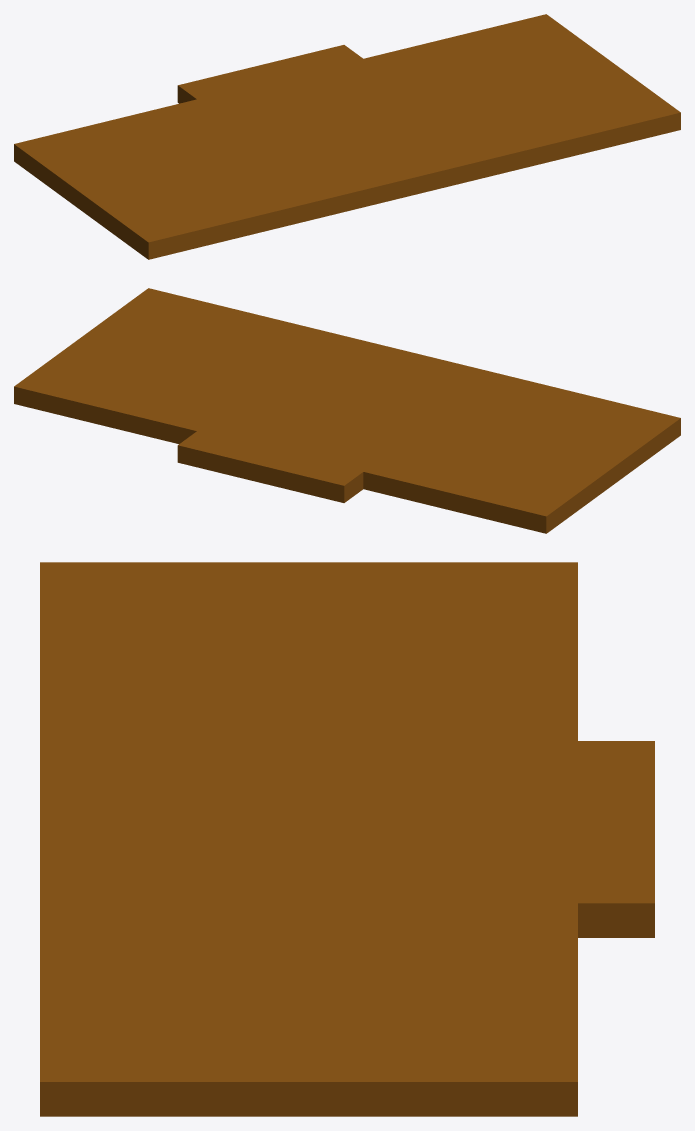
The model's file is FloorEdgeDoor.glb.
The picture shows the model from 3 angles, top to bottom: view 1: azimuth 30°, elevation 25°; view 2: azimuth 150°, elevation 25°; view 3: azimuth 270°, elevation 25°; orthographic projection. The views are drawn at different scales.
Visible parts, largest first — view 1: FloorEdgeDoor; view 2: FloorEdgeDoor; view 3: FloorEdgeDoor.
Boxes of the visible parts, <box> form: FloorEdgeDoor: <box>14,14,680,259</box>; FloorEdgeDoor: <box>14,288,680,533</box>; FloorEdgeDoor: <box>40,562,654,1116</box>.
Size of the model in its own units: 32 by 1 by 16.
